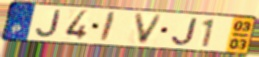1: (200, 18, 218, 48)
4: (62, 9, 91, 42)
I: (98, 10, 119, 43)
J: (34, 9, 64, 39), (170, 17, 199, 47)
V: (132, 12, 165, 46)
